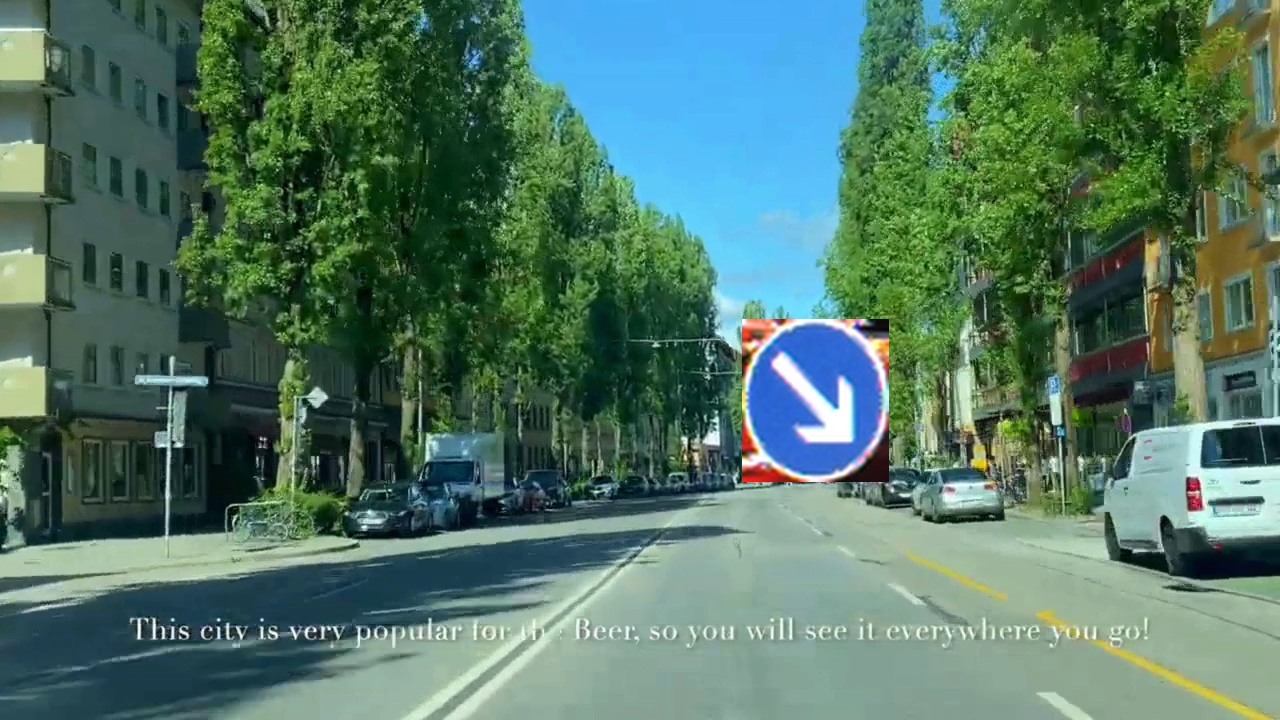Keep right: (742, 319, 889, 482)
